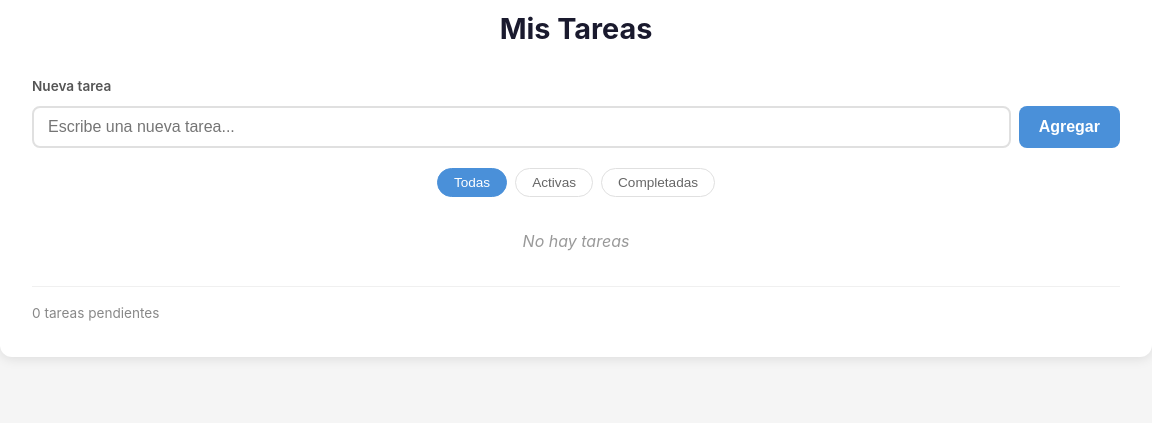
Test case: TodoApp › Cuando el usuario filtra las tareas › deberia mostrar solo las tareas activas al seleccionar el filtro "Activas"
In the field labelled "Nueva tarea": [521, 127] box [32, 106, 1011, 148], type "Tarea que voy a completar"
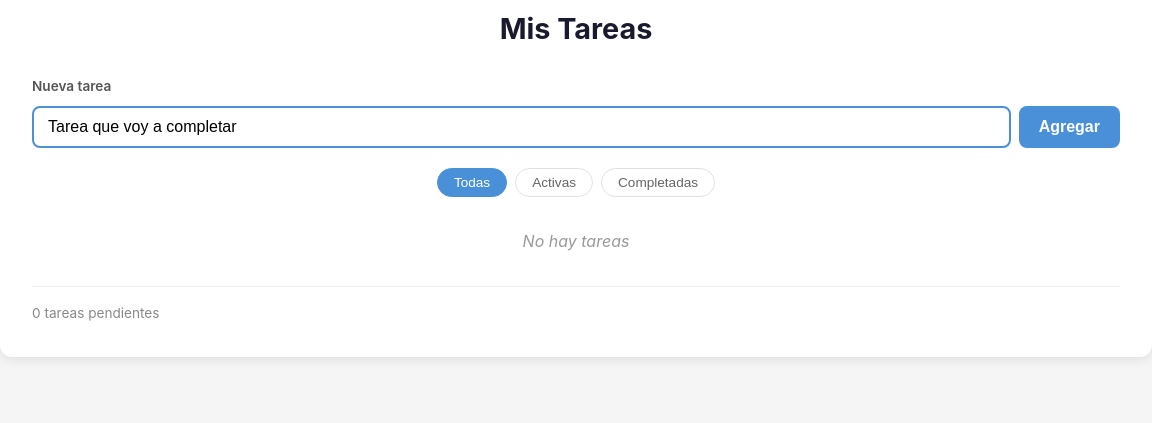
Click the button "Agregar": [1069, 127] box [1019, 106, 1120, 148]
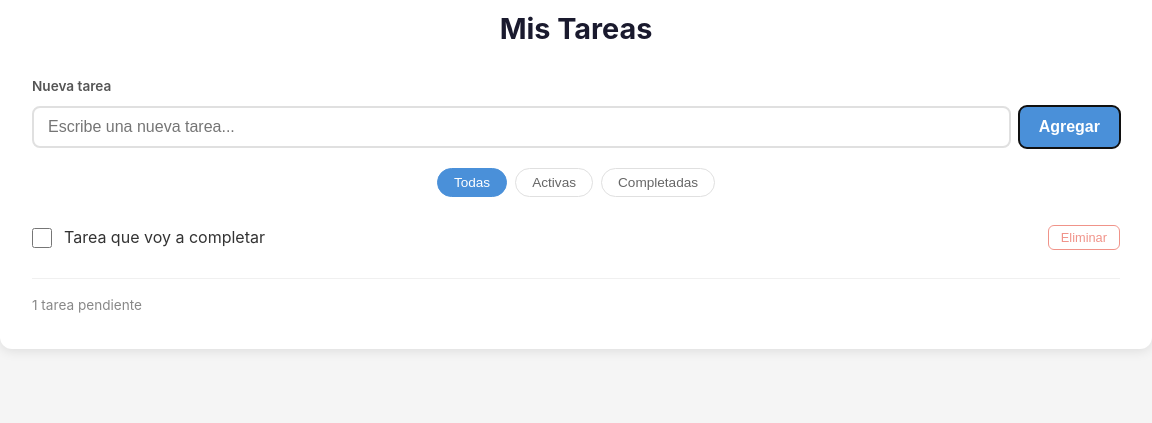
In the field labelled "Nueva tarea": [521, 127] box [32, 106, 1011, 148], type "Tarea que queda pendiente"
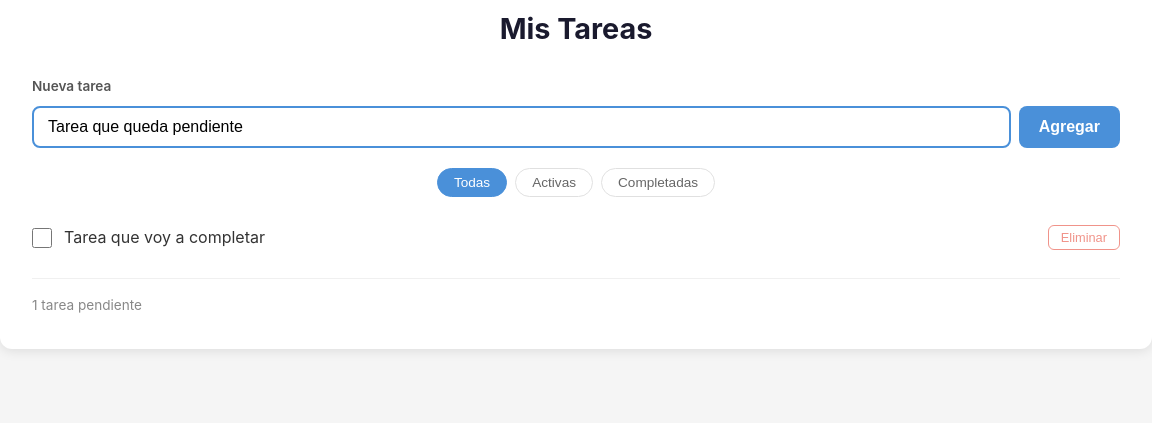
Click the button "Agregar": [1069, 127] box [1019, 106, 1120, 148]
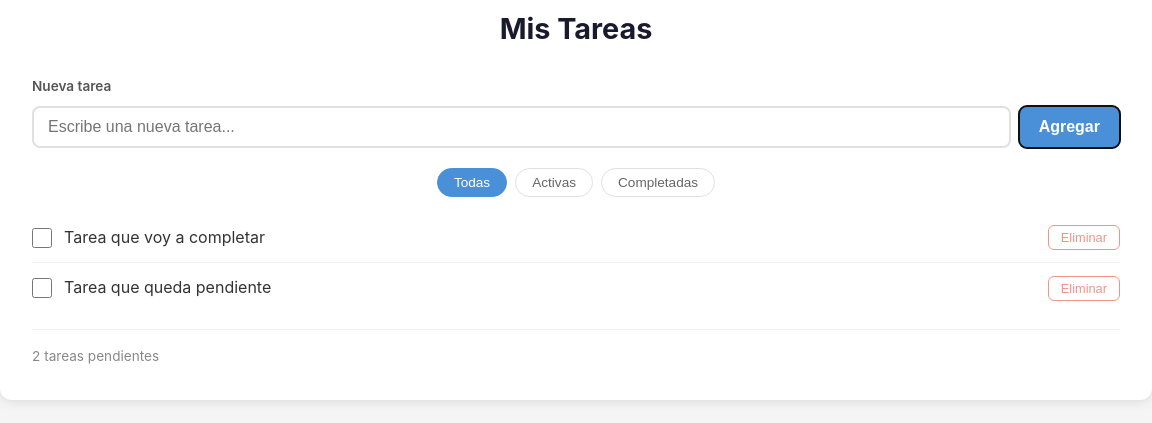
Completar la primera tarea
Click the checkbox labelled "Tarea que voy a completar": [42, 238] box [32, 228, 52, 248]
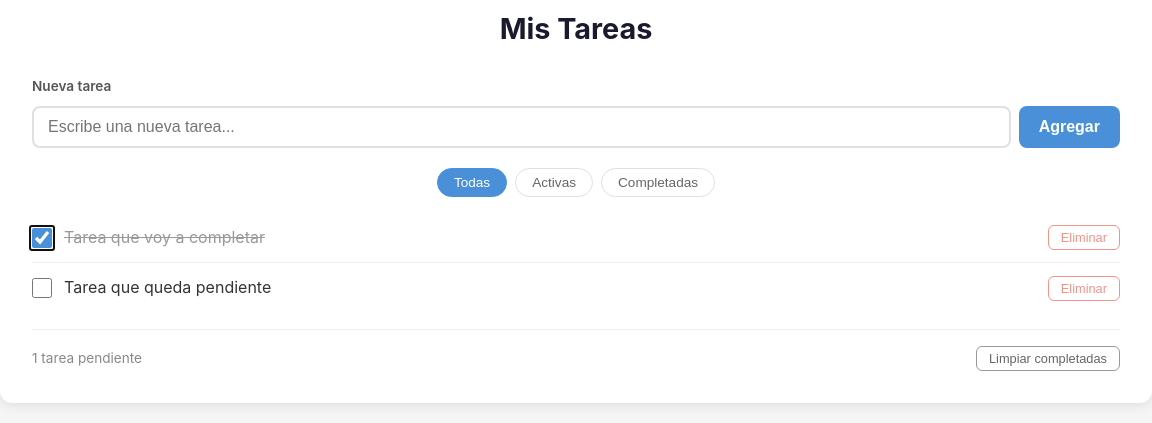
Click the button "Activas": [554, 182] box [515, 168, 593, 197]
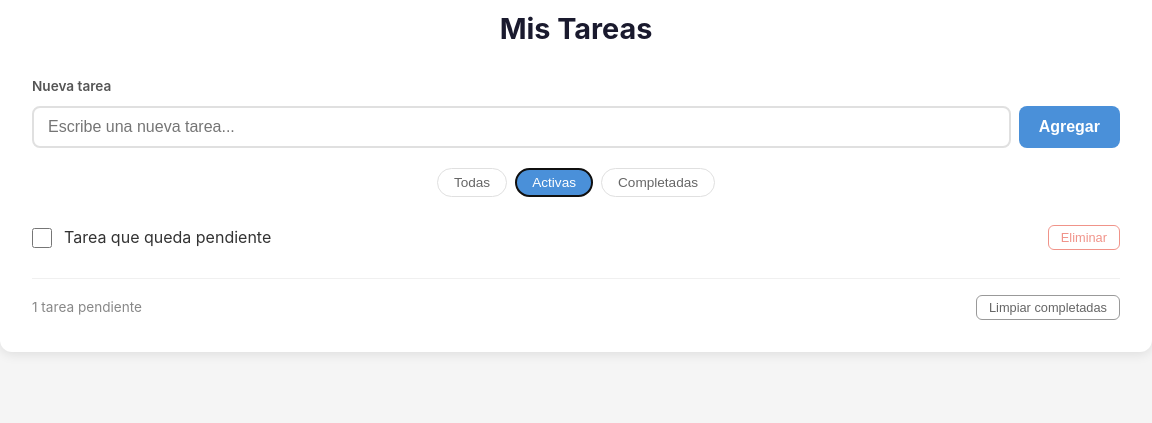
Result: the text "Tarea que queda pendiente" is shown at [64, 225, 271, 250]
Result: the text "Tarea que voy a completar" is gone
